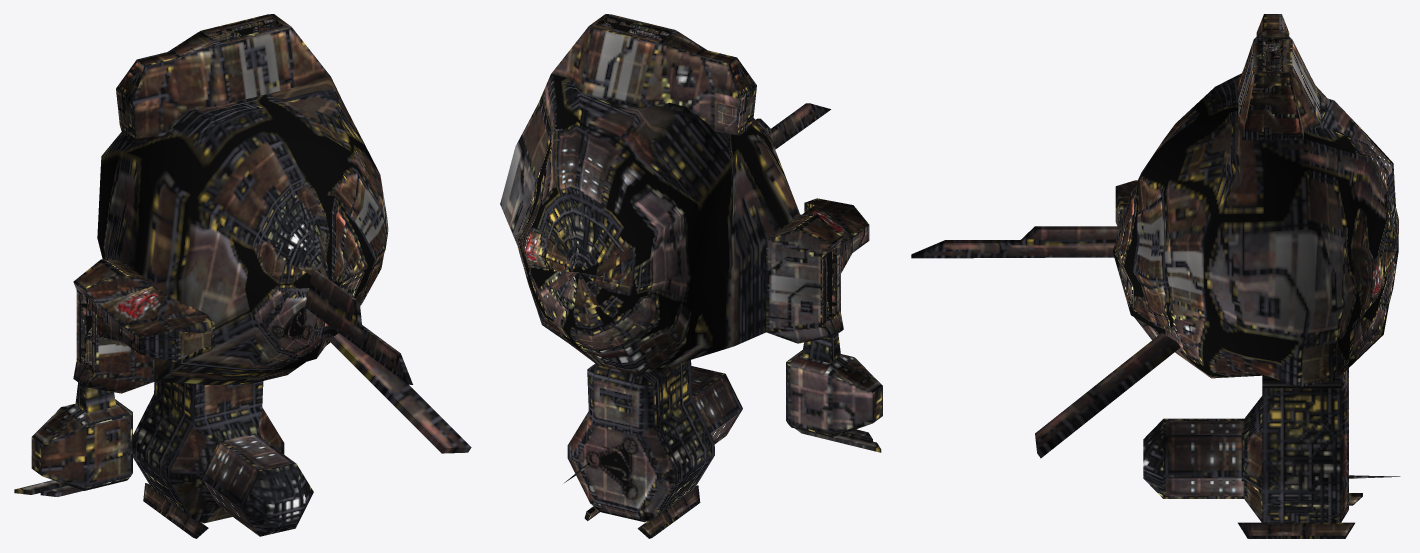
The picture shows the model from 3 angles, left to right: view 1: azimuth 30°, elevation 25°; view 2: azimuth 150°, elevation 25°; view 3: azimuth 270°, elevation 25°; orthographic projection. The views are drawn at different scales.
Parts seen in each view (by area): view 1: frm-craterer1, frm-cyl1, frm-cube4, frm-cube34, frm-cube33, frm-cube35, frm-cube3, frm-extru48, frm-cube2, frm-east_bay_11_9, frm-east_bay_11_8; view 2: frm-craterer1, frm-cyl1, frm-cube4, frm-cube35, frm-cube34, frm-cube33, frm-extru48, frm-cube2, frm-east_bay_11_9, frm-east_bay_11_8, frm-cube12; view 3: frm-craterer1, frm-cyl1, frm-cube4, frm-extru48, frm-cube3, frm-cube1, frm-east_bay_11_8.
Boxes of the visible parts, box(x1,y1,x2,y2) form: frm-craterer1: box(97, 77, 388, 385); frm-cyl1: box(133, 381, 313, 536); frm-cube4: box(116, 14, 330, 141); frm-cube34: box(31, 382, 132, 490); frm-cube33: box(97, 285, 214, 361); frm-cube35: box(73, 258, 154, 393); frm-cube3: box(328, 333, 471, 453); frm-extru48: box(305, 269, 412, 384); frm-cube2: box(143, 483, 208, 538); frm-east_bay_11_9: box(81, 294, 91, 371); frm-east_bay_11_8: box(206, 18, 282, 41); frm-craterer1: box(500, 74, 799, 375); frm-cyl1: box(567, 360, 742, 522); frm-cube4: box(551, 14, 756, 135); frm-cube35: box(766, 214, 843, 343); frm-cube34: box(786, 334, 882, 437); frm-cube33: box(802, 198, 869, 273); frm-extru48: box(756, 103, 830, 149); frm-cube2: box(637, 485, 700, 538); frm-east_bay_11_9: box(826, 248, 836, 321); frm-east_bay_11_8: box(597, 17, 670, 40); frm-cube12: box(795, 428, 881, 452); frm-craterer1: box(1112, 73, 1398, 387); frm-cyl1: box(1143, 368, 1348, 522); frm-cube4: box(1238, 14, 1321, 140); frm-extru48: box(911, 226, 1120, 258); frm-cube3: box(1035, 333, 1180, 458); frm-cube1: box(1238, 522, 1354, 538); frm-east_bay_11_8: box(1262, 39, 1282, 71).
Size of the model in its own units: 80.4 by 102 by 96.03.
